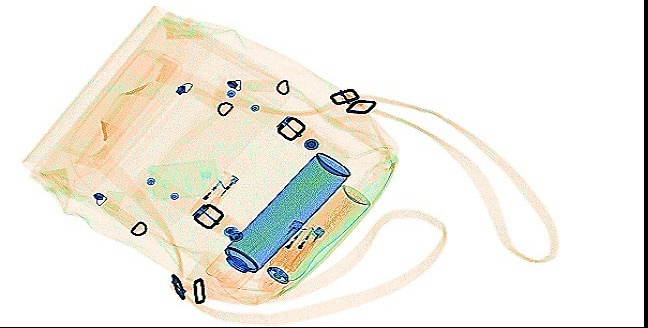lighter: (185, 165, 238, 225), (282, 220, 325, 273), (263, 218, 304, 269)
pressure: (205, 149, 351, 295), (255, 182, 370, 299)
